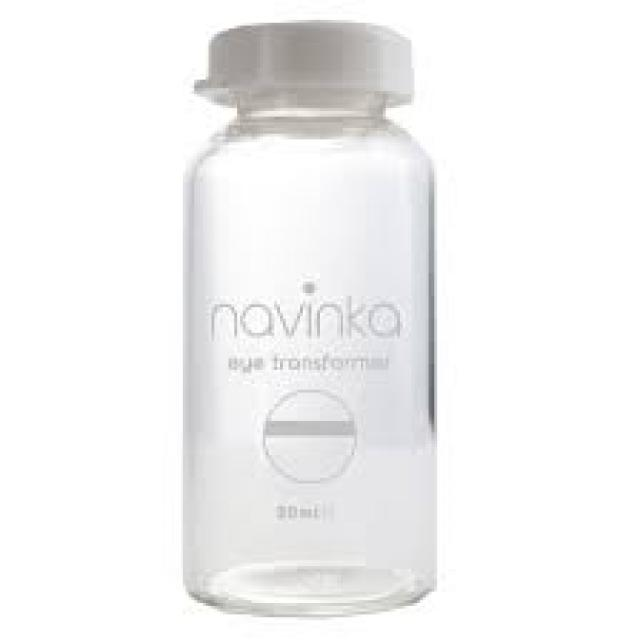Glass-Non-Biodegradable but Recyclable-: (181, 24, 437, 629)
